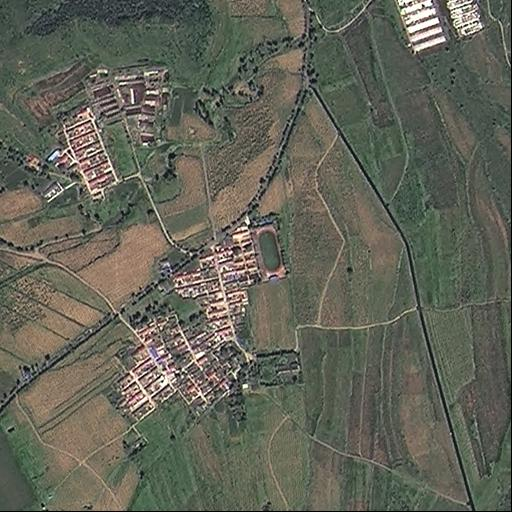school: (228, 219, 284, 287)
